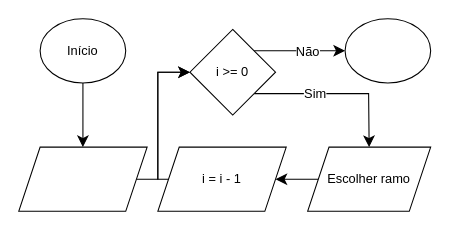
The diagram is 449 pixels wide and 230 high, and some of its shapes have lost their labels. Here are the shapes that lost their labels. From the top down, the box of each, then its label:
(344, 18, 431, 83): Fim
(18, 146, 147, 211): previous = 0 next = 0
